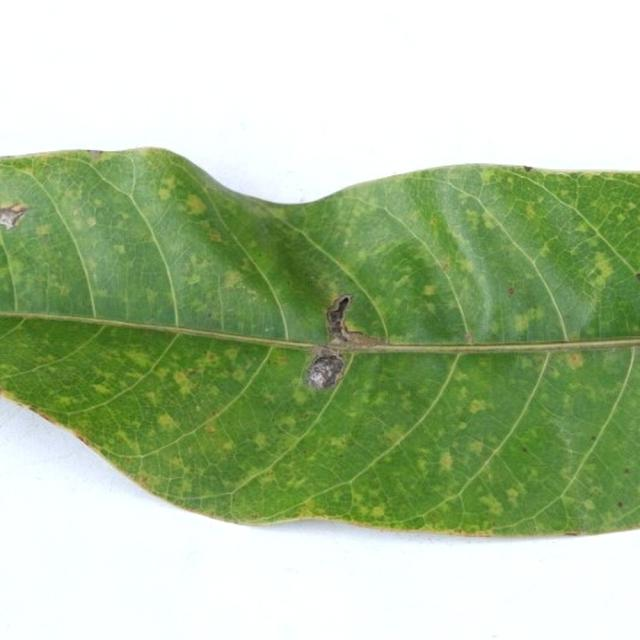Mango: (0, 149, 639, 543)
Powdery_Mildew: (205, 264, 280, 326), (583, 247, 619, 295), (508, 305, 548, 334), (182, 252, 211, 280), (123, 350, 154, 370), (184, 193, 207, 216), (220, 269, 245, 290), (384, 425, 408, 445), (481, 495, 504, 515), (172, 371, 192, 391), (158, 176, 177, 197), (480, 169, 504, 185), (464, 209, 483, 228), (156, 413, 177, 430), (481, 210, 499, 229), (202, 350, 221, 367), (438, 451, 454, 471), (467, 399, 488, 414), (270, 351, 290, 366), (567, 351, 584, 367), (467, 441, 485, 456), (279, 416, 297, 431), (393, 274, 411, 289), (505, 487, 521, 503), (253, 433, 268, 449), (36, 223, 53, 237), (185, 273, 202, 287), (329, 436, 348, 448), (525, 203, 538, 219), (422, 283, 438, 296), (204, 420, 218, 434), (370, 506, 385, 518), (92, 384, 110, 394), (576, 222, 591, 234), (58, 284, 71, 297), (208, 230, 222, 242), (113, 244, 126, 256), (424, 302, 436, 314), (583, 499, 596, 510), (458, 386, 469, 398), (86, 216, 97, 228), (148, 291, 158, 303), (617, 213, 627, 223), (441, 262, 450, 272), (626, 202, 636, 210)
